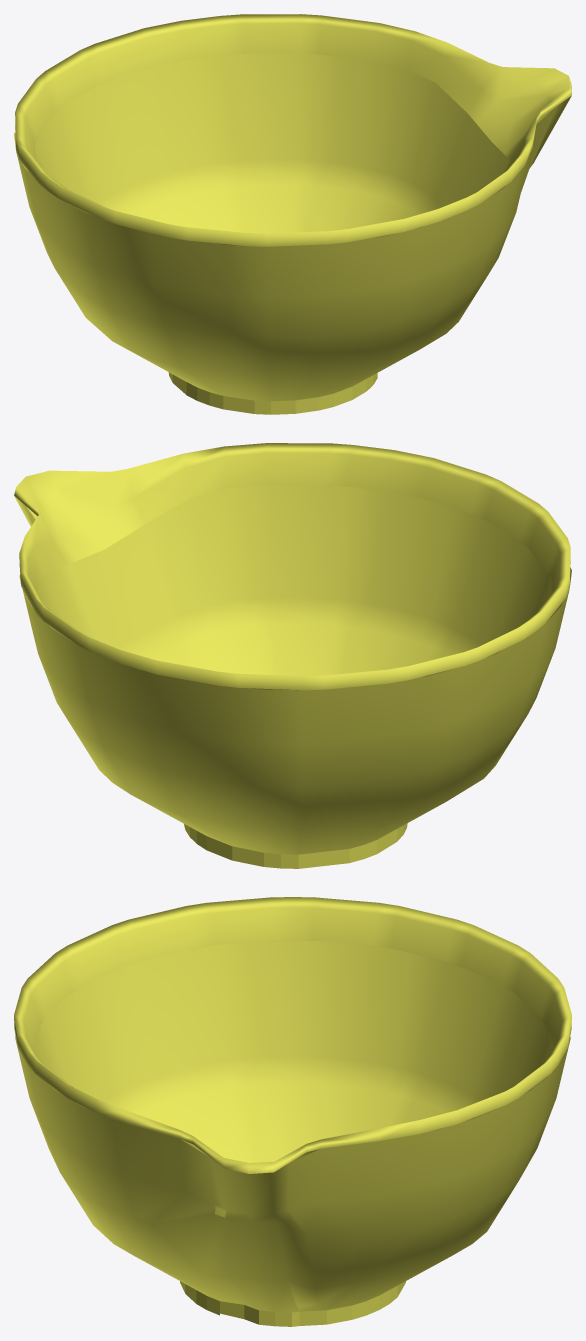
Rendered from plasticbowl_reduced_scaled.fbx.
The picture shows the model from 3 angles, top to bottom: view 1: azimuth 30°, elevation 25°; view 2: azimuth 150°, elevation 25°; view 3: azimuth 270°, elevation 25°; orthographic projection. The views are drawn at different scales.
Visible parts, largest first — view 1: polySurface22, polySurface6, polySurface21; view 2: polySurface22, polySurface6, polySurface21; view 3: polySurface22, polySurface6, polySurface21.
Part boxes in pixels (<box>): polySurface22: <box>14,53,571,401</box>; polySurface6: <box>15,14,571,246</box>; polySurface21: <box>168,372,377,414</box>; polySurface22: <box>14,484,571,854</box>; polySurface6: <box>14,443,570,690</box>; polySurface21: <box>184,823,407,868</box>; polySurface22: <box>15,940,570,1312</box>; polySurface6: <box>14,897,571,1173</box>; polySurface21: <box>180,1281,405,1326</box>.
Bounding box in the file's own units: 16.6 × 7.83 × 14.9.
